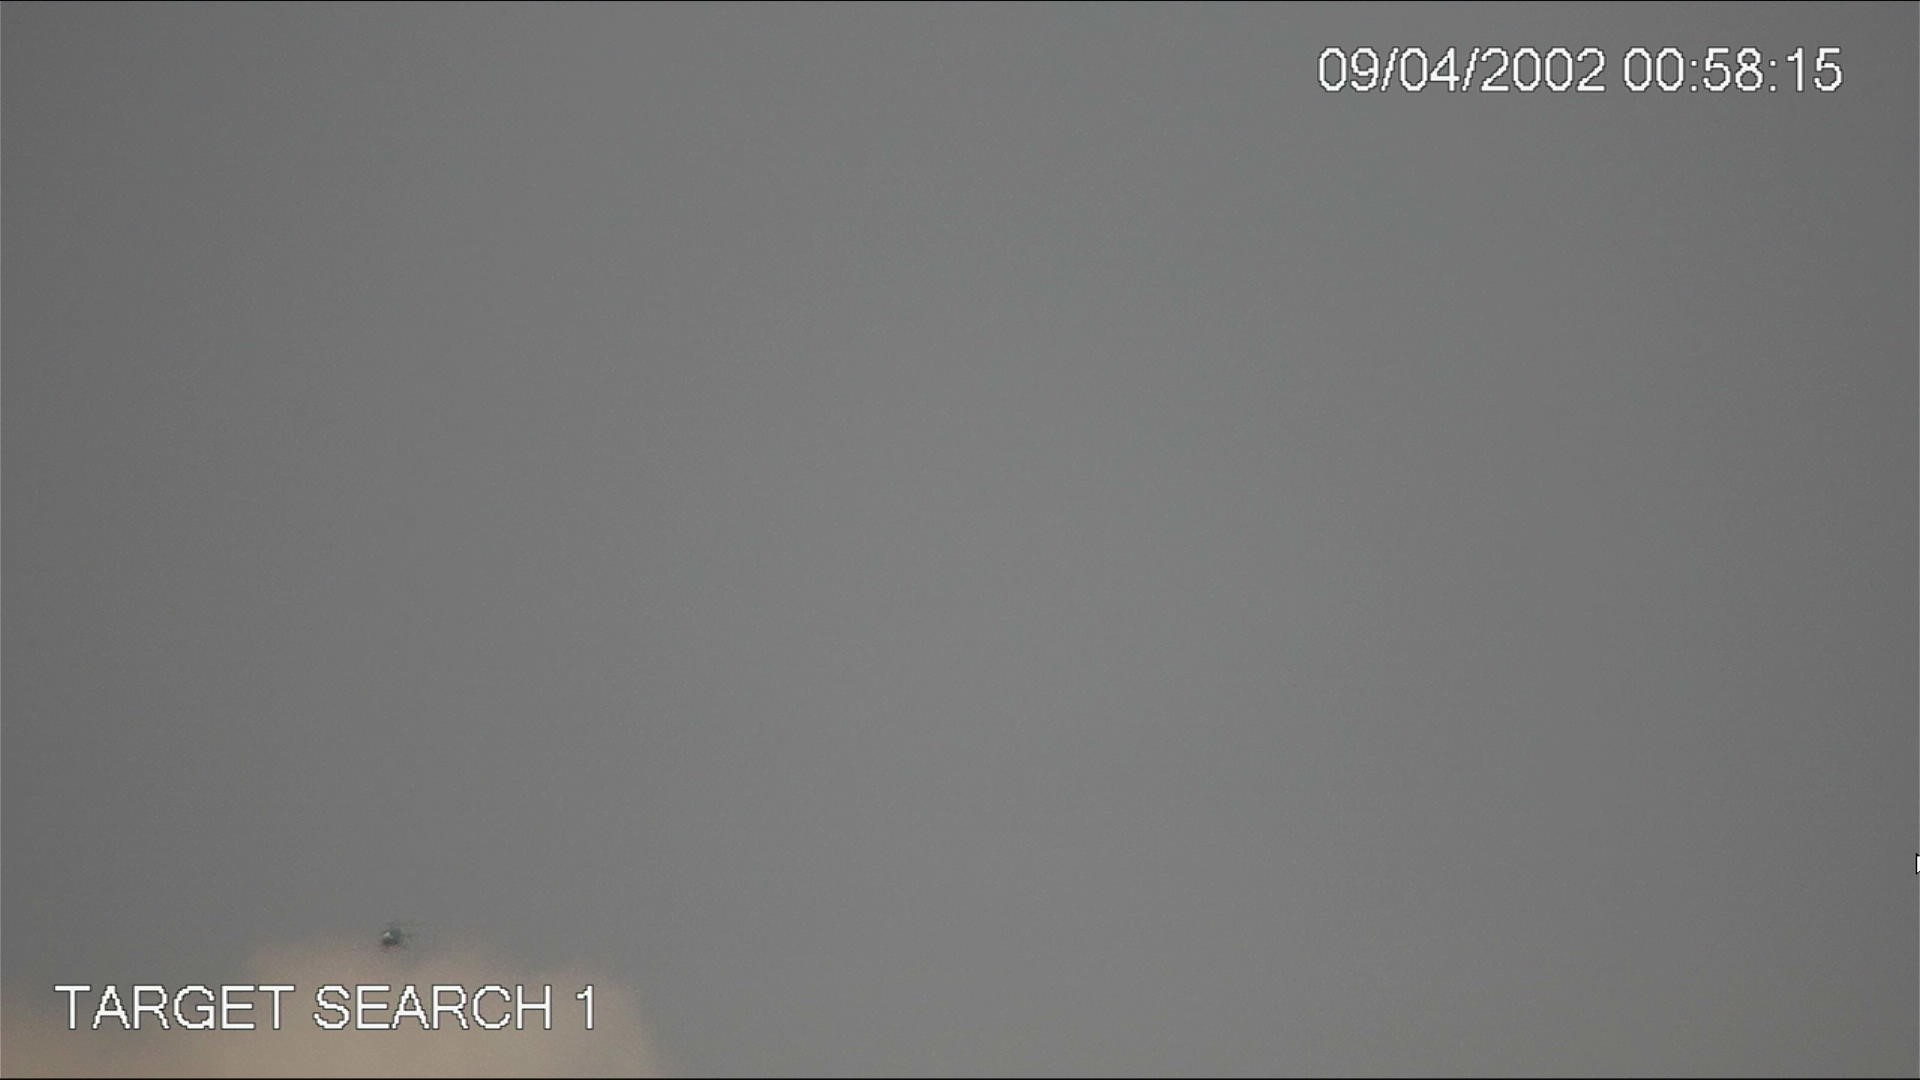SU_30: (373, 924, 406, 944)
